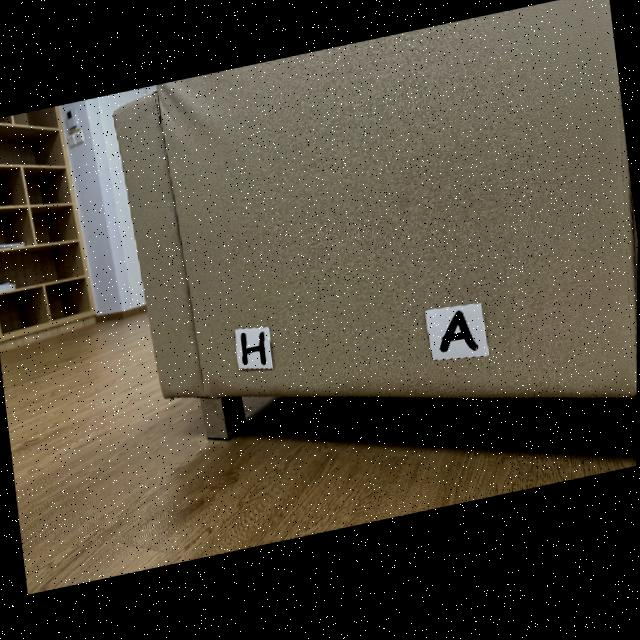A: (441, 319, 477, 361)
H: (241, 336, 267, 370)
